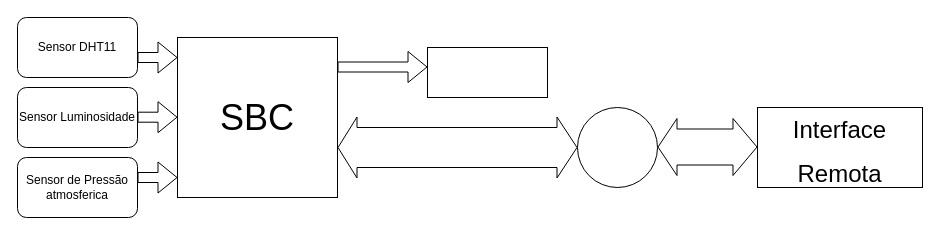
This 940x235 diagram has some shape labels left out. Here are the shapes that lost their labels. From the top down, the centre of each, then its label:
point (487, 72): INTERFACE LOCAL
point (617, 147): BROKER
